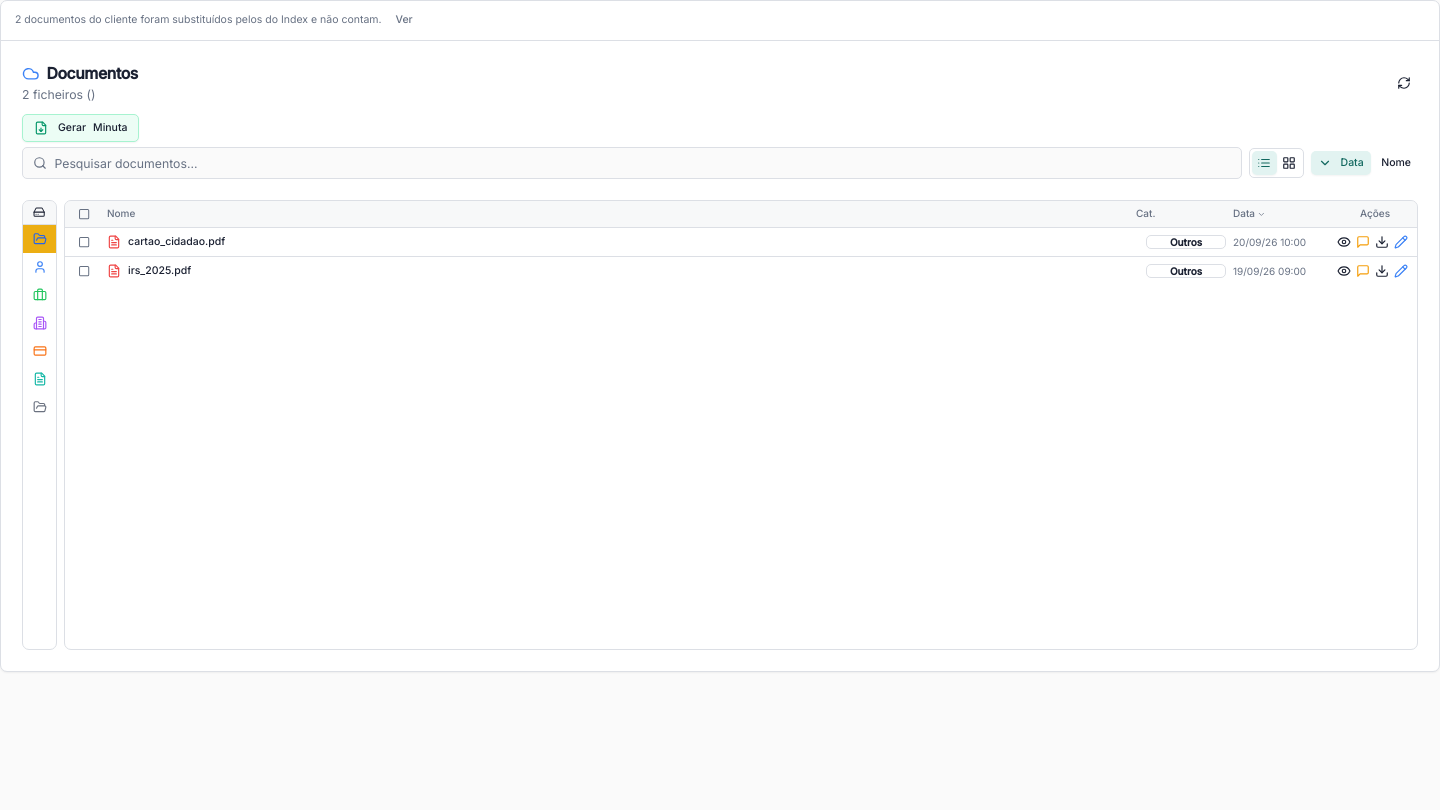
Test: comprovativos do cliente substituídos pelos do Index (Out 2026) › quem vê o Index sabe quantos são e pode pedi-los
This screenshot has width=1440, height=810.
Expected: the text "2 documentos do cliente foram substituídos pelos do Index" is shown, [15, 13, 382, 26]
Click the button with test id "s3-ver-substituidos".
click(404, 20)  # box [388, 8, 420, 32]
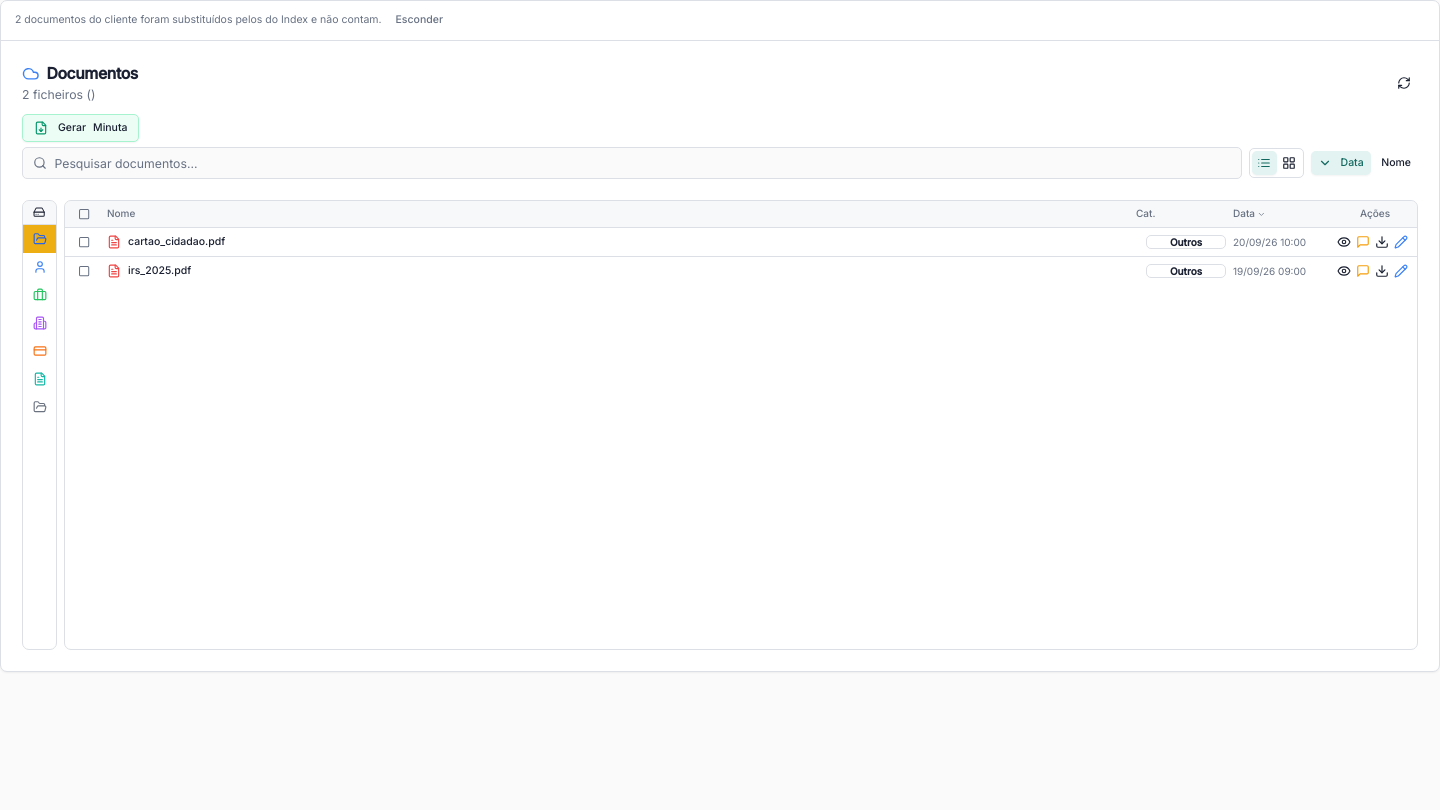
Now the button with test id "s3-ver-substituidos" reads "Esconder", box [388, 8, 450, 32]
